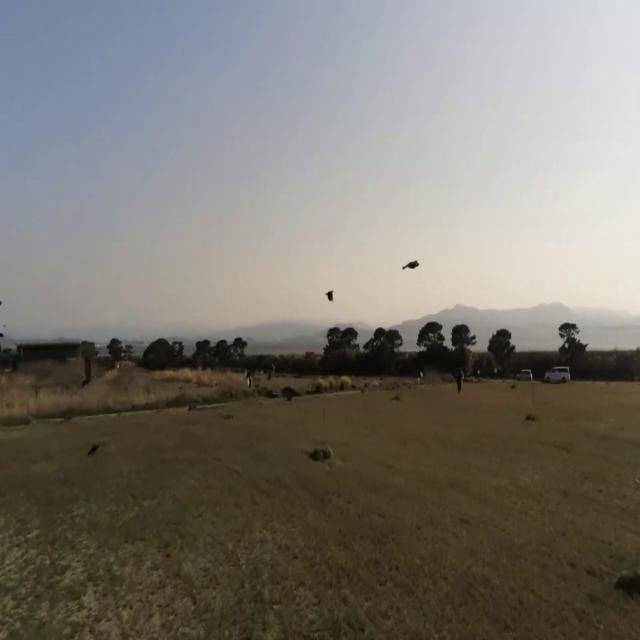bird: (402, 250, 419, 278), (325, 283, 334, 307), (0, 293, 3, 314)
